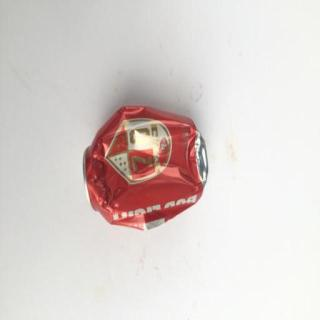Anorganik: (80, 100, 216, 239)
